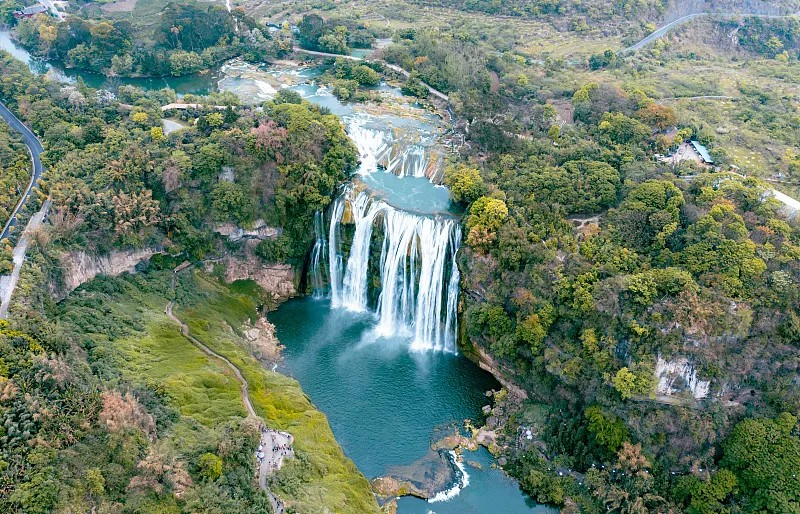Huangguoshu: (314, 144, 460, 357)
